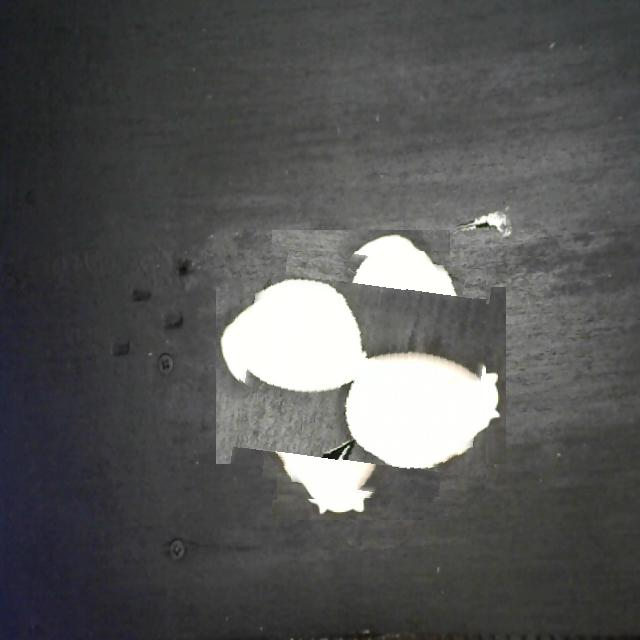biodegradable: (236, 251, 486, 500)
